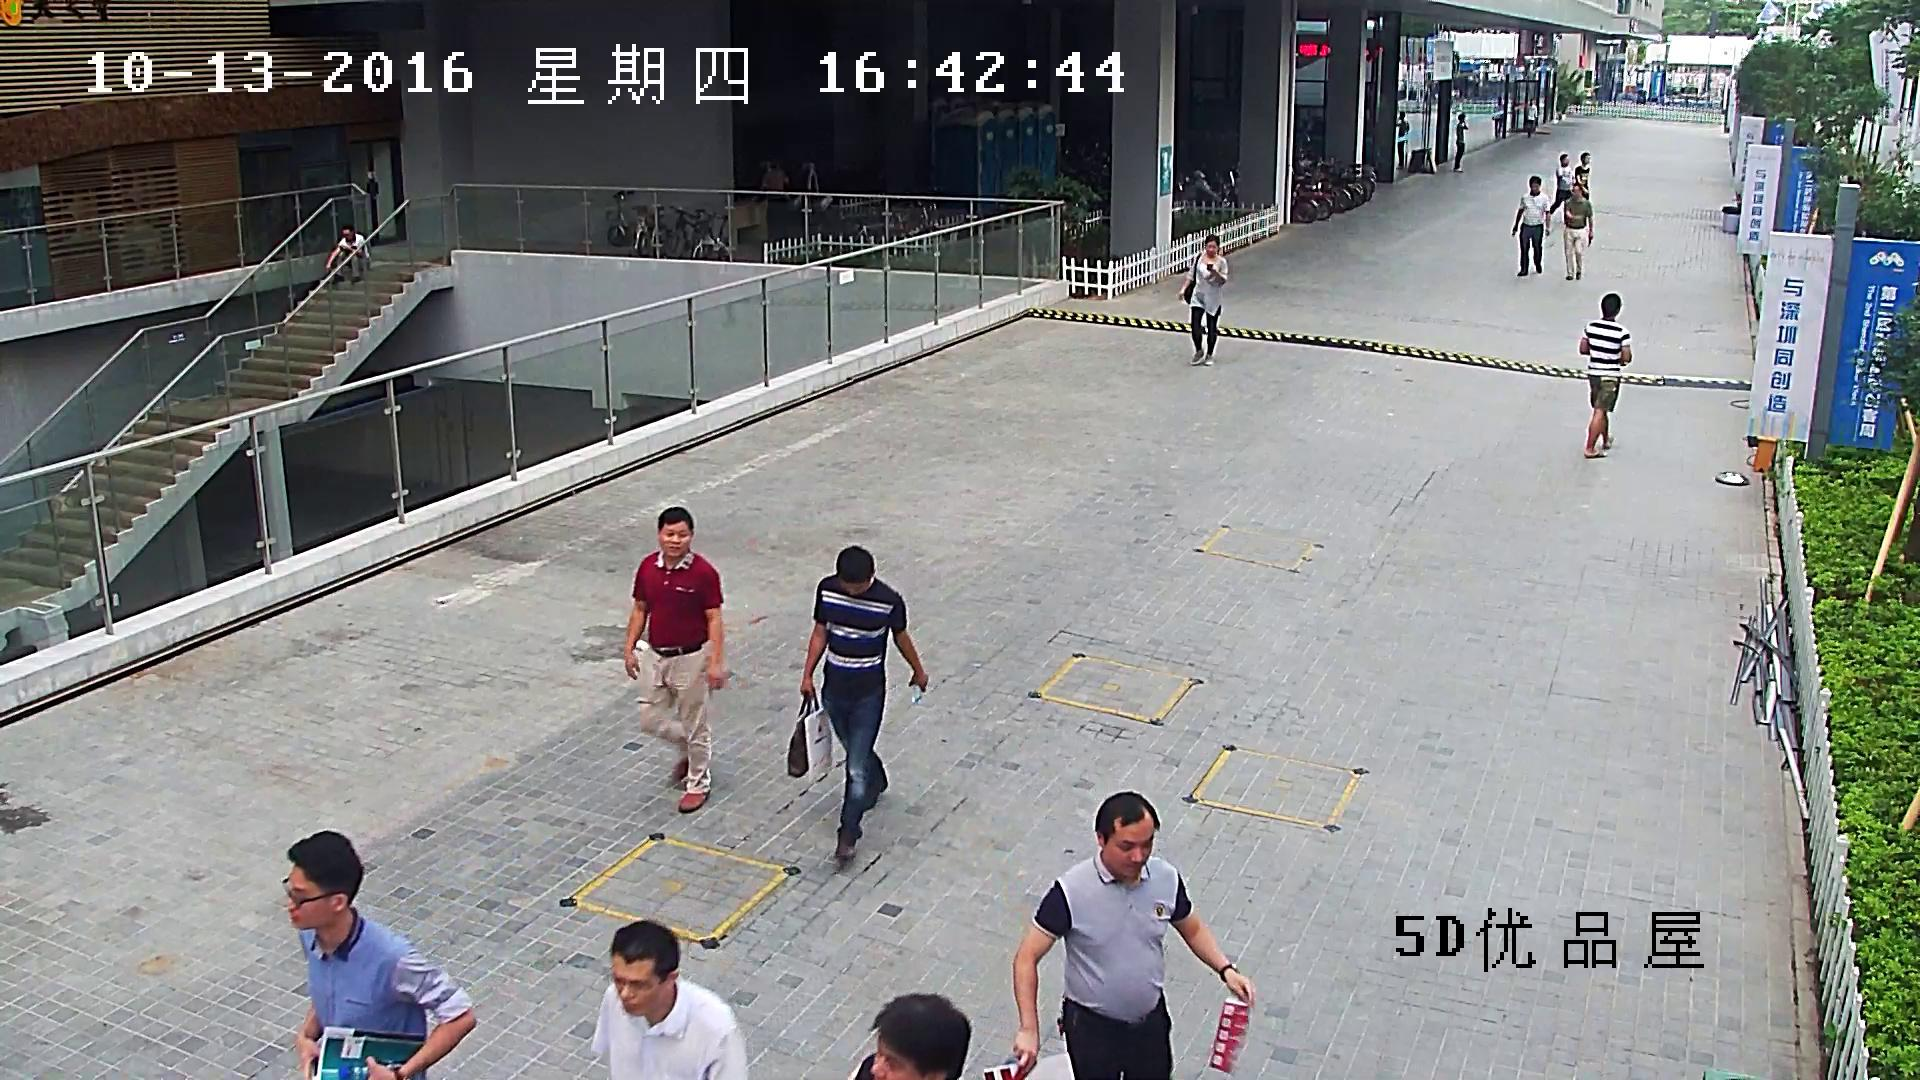person: (1008, 791, 1256, 1080), (281, 828, 478, 1080), (782, 546, 928, 862), (622, 505, 726, 822), (583, 925, 748, 1080), (1578, 293, 1633, 459), (1175, 234, 1230, 367), (1511, 177, 1551, 276), (323, 221, 374, 285), (1562, 185, 1592, 279), (1550, 153, 1574, 214), (1394, 109, 1410, 171), (1453, 112, 1467, 173), (1489, 94, 1505, 142), (1574, 152, 1589, 202), (1522, 95, 1538, 139)
